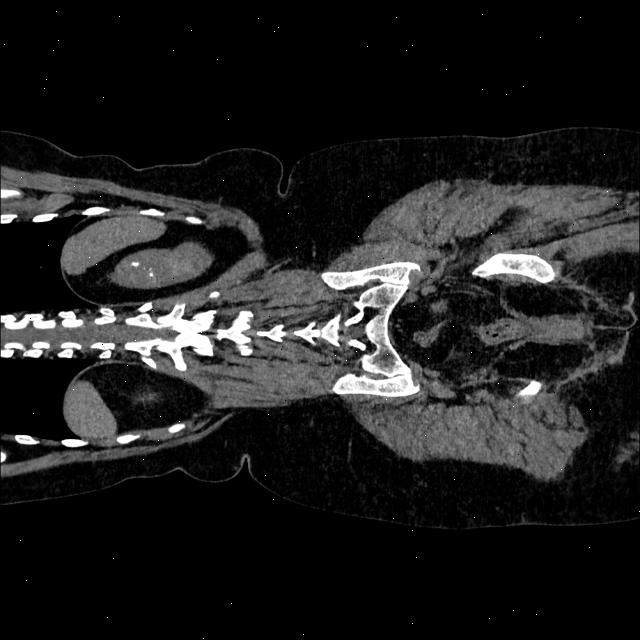kidneystone: (131, 261, 139, 266), (148, 271, 154, 276)
